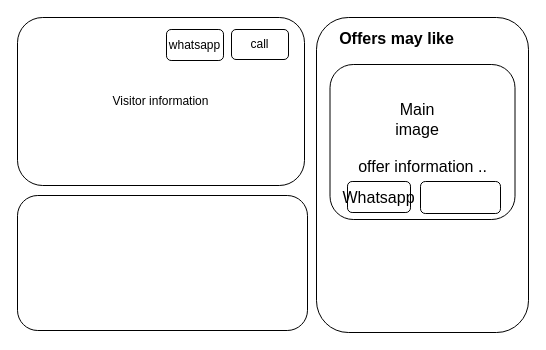
Some shapes in this 546 by 350 pixel diagram are drawn without their labels. The shapes that lost their labels are listed below. From the top down, each one's centre as x and y in pixels, then its label:
At pixel 460 197: "Order".
At pixel 162 262: "Interests & notes".
